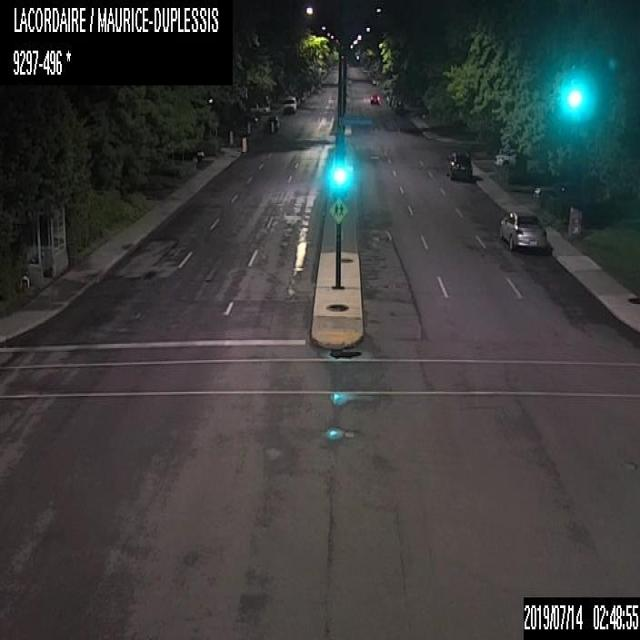construction: (228, 128, 233, 144), (242, 138, 246, 150), (246, 121, 250, 132)
vehicle: (498, 209, 548, 252), (533, 179, 580, 205), (493, 149, 536, 170), (445, 148, 474, 179), (280, 93, 296, 112), (250, 100, 268, 114), (266, 114, 278, 134), (394, 98, 404, 111), (369, 92, 380, 103)
